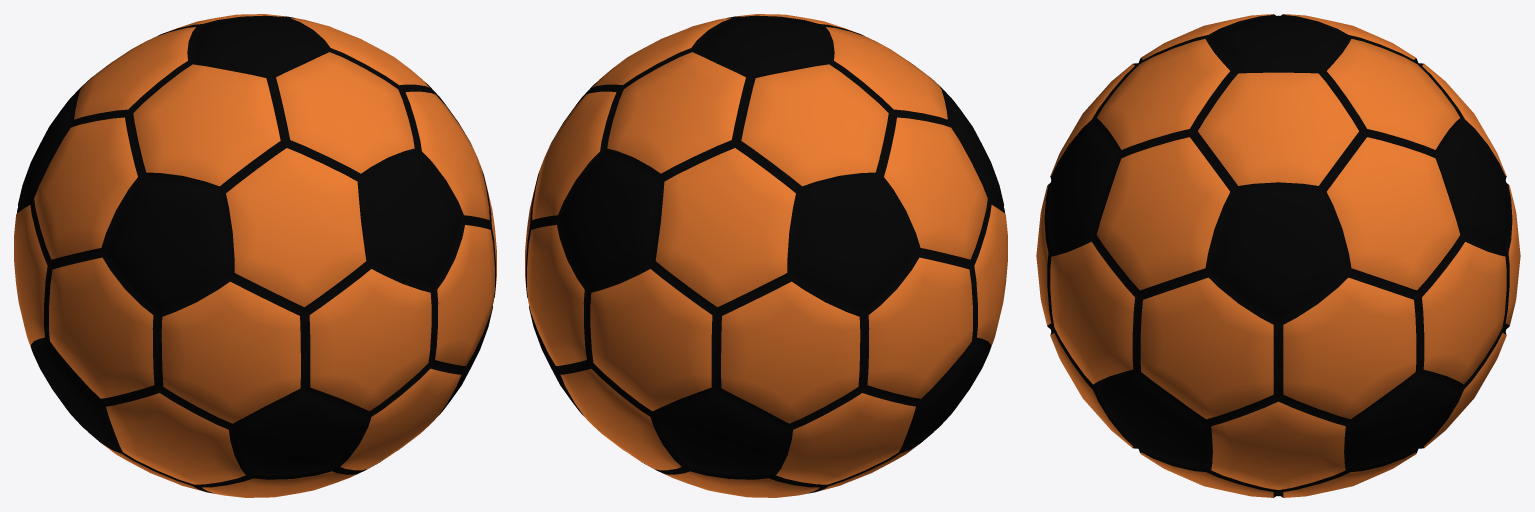
The model's file is foot_ball.glb.
3 renders of one model, left to right at view 1: azimuth 30°, elevation 25°; view 2: azimuth 150°, elevation 25°; view 3: azimuth 270°, elevation 25°, orthographic.
Visible parts, largest first — view 1: football_0; view 2: football_0; view 3: football_0.
Boxes of the visible parts, x1=… form: football_0: x1=14, y1=14, x2=496, y2=497; football_0: x1=525, y1=14, x2=1007, y2=497; football_0: x1=1036, y1=14, x2=1520, y2=497.
Size of the model in its own units: 1.84 by 1.86 by 1.85.
